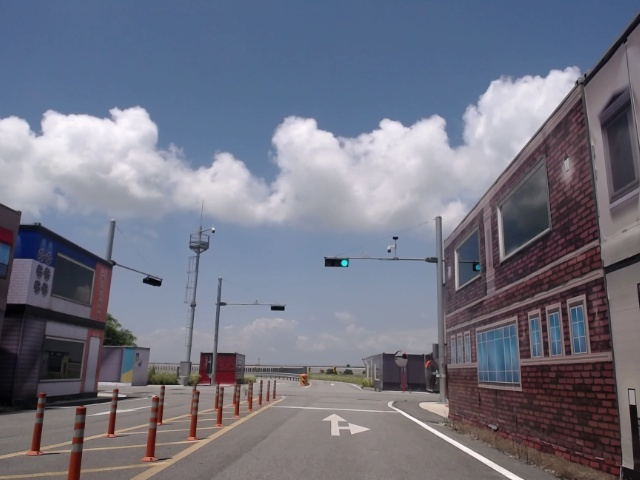green_3: (325, 259, 348, 267)
